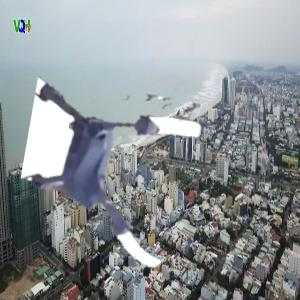drone: (23, 89, 205, 271)
